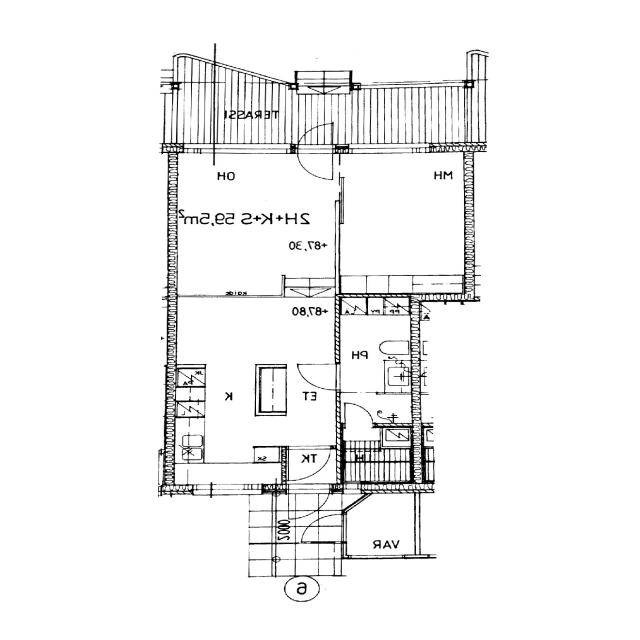door: (289, 484, 330, 522), (289, 446, 331, 478), (303, 514, 347, 542), (298, 144, 332, 178), (298, 119, 332, 153), (300, 364, 342, 390), (346, 403, 373, 428)
